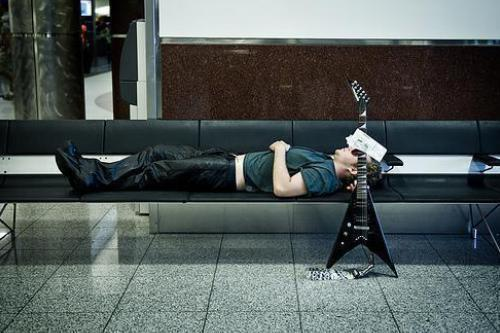Otro Obstaculo: (317, 79, 411, 274)
